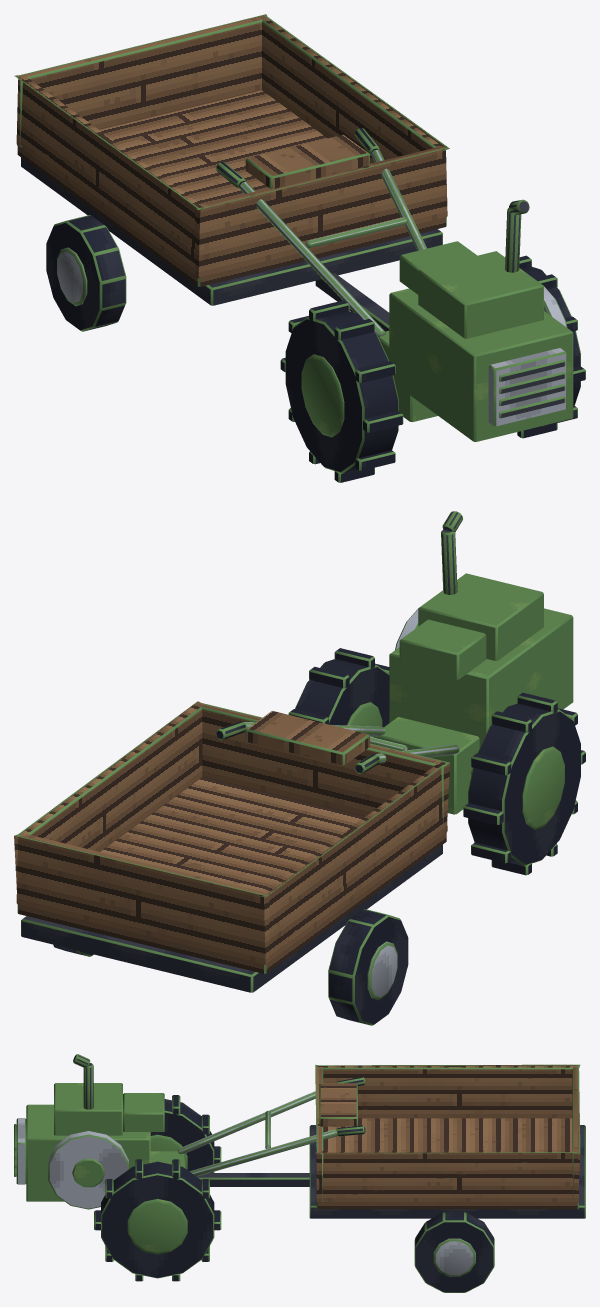
File: cn_walking_tractor_0.glb
3 views of the same model, one above another, from view 1: azimuth 30°, elevation 25°; view 2: azimuth 150°, elevation 25°; view 3: azimuth 270°, elevation 25° (orthographic). The views are drawn at different scales.
Parts seen in each view (by area): view 1: cn_walking_tractor_1; view 2: cn_walking_tractor_1; view 3: cn_walking_tractor_1.
Part boxes in pixels (x1=…): cn_walking_tractor_1: x1=14, y1=14, x2=585, y2=482; cn_walking_tractor_1: x1=14, y1=511, x2=585, y2=1025; cn_walking_tractor_1: x1=14, y1=1054, x2=585, y2=1292.
Bounding box in the file's own units: 1.89 × 1.6 × 4.14.
7 materials, 7 textured.
